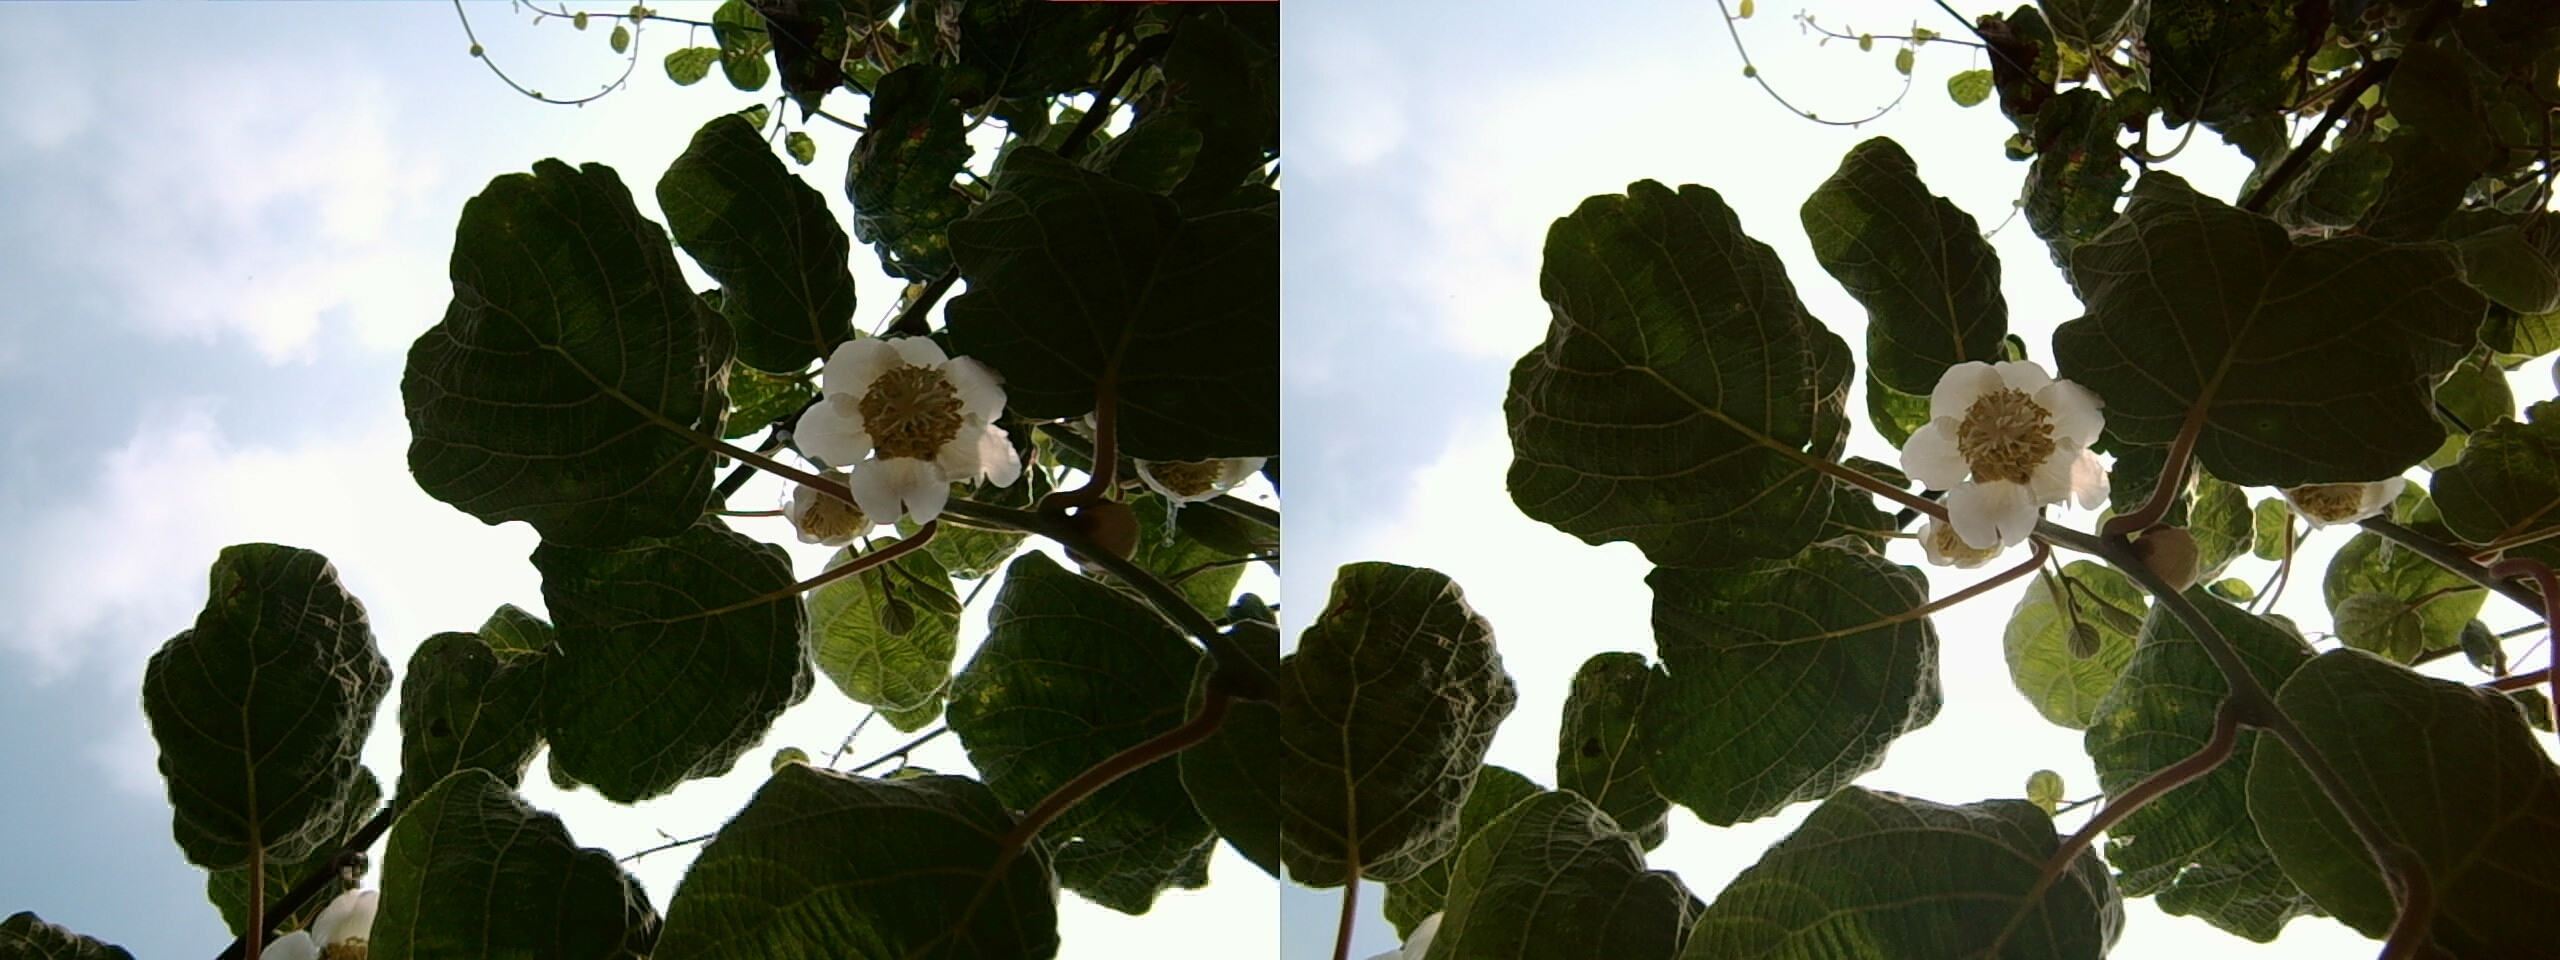flower: (1896, 346, 2108, 540), (793, 327, 1014, 513)
